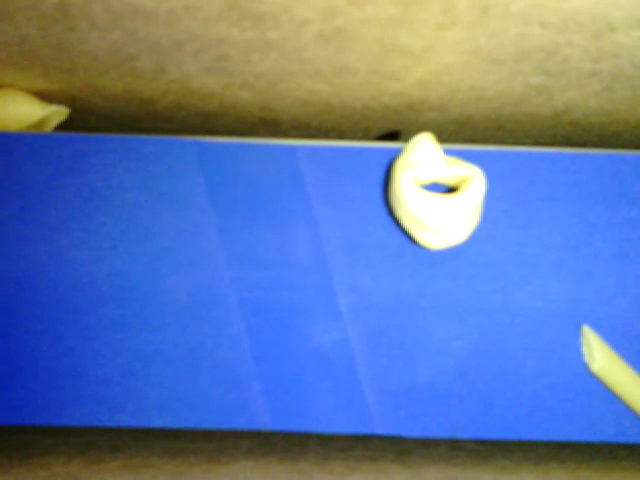penne: (578, 328, 639, 418)
shell: (1, 86, 73, 132)
tortellini: (382, 132, 484, 254)
